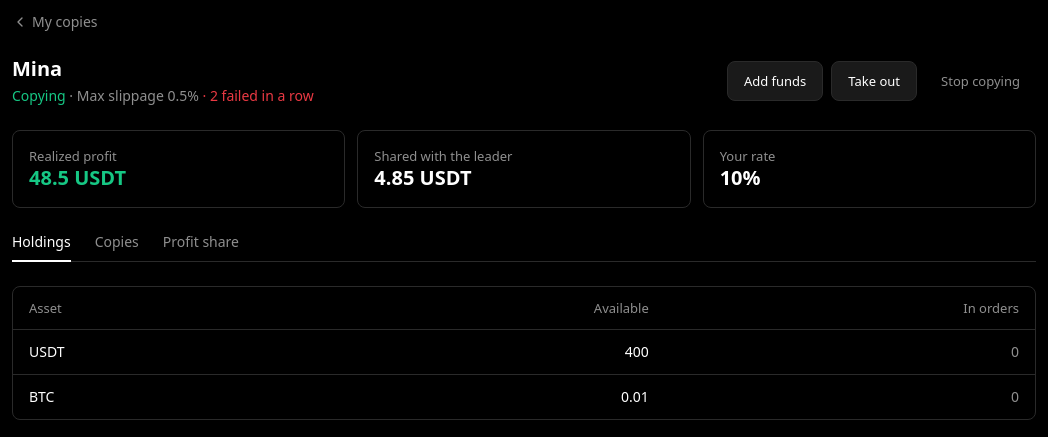
Scenario: Copy account › opens on what it holds; the copies tab shows what each traded, or why it did not happen
The image size is (1048, 437).
Expected: the text "· 2 failed in a row" is shown, [199,86,314,105]
Expected: the cell "BTC" is shown, [13,374,298,419]
Click the tab "Copies" at (117, 247), box [95,232,139,262]
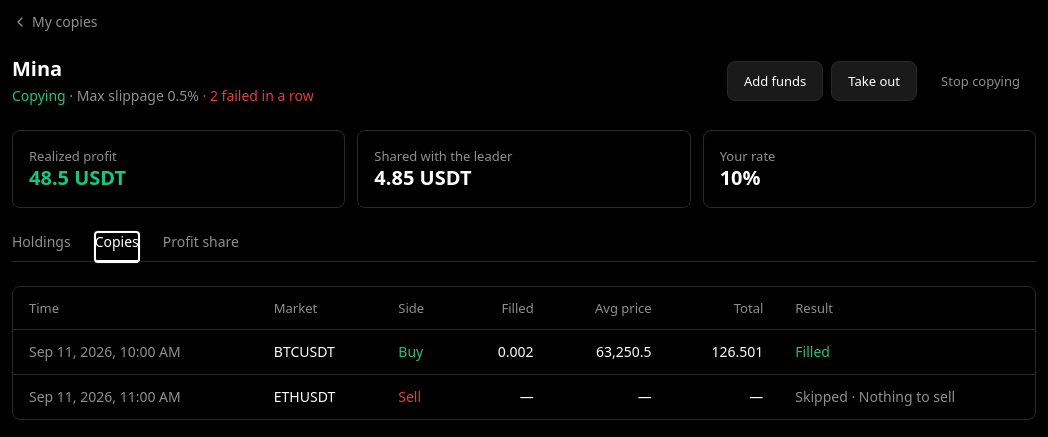
Expected: the text "0.002" is shown, [459,330,550,374]
Expected: the text "63,250.5" is shown, [550,330,668,374]
Expected: the text "126.501" is shown, [668,330,779,374]
